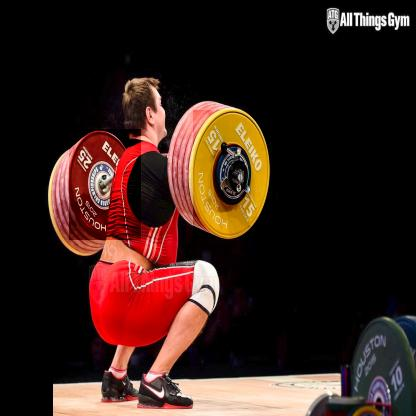barbell: (194, 111, 271, 240), (70, 130, 142, 241)
